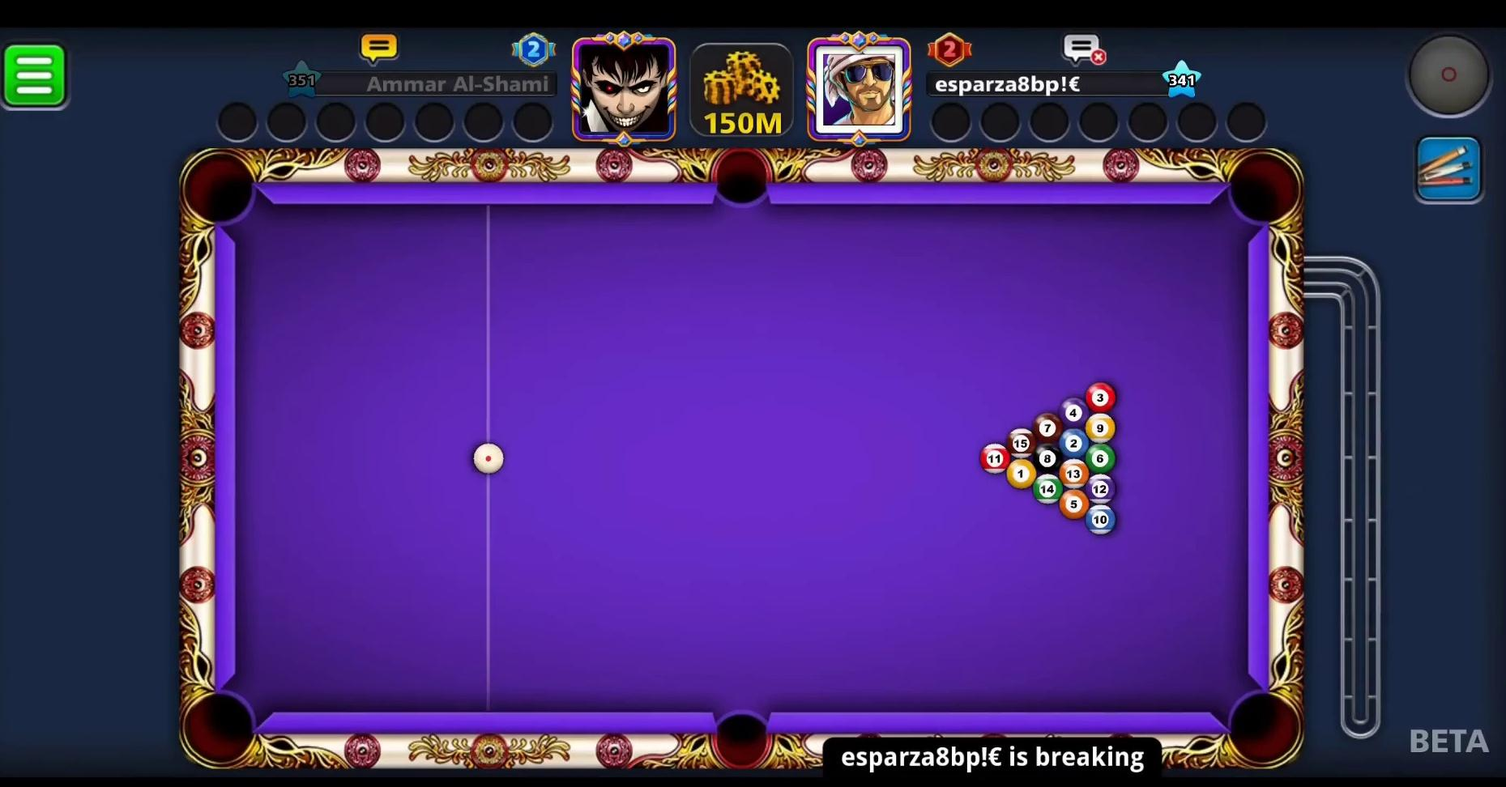Ball: (1053, 454, 1091, 491), (1082, 377, 1118, 414), (1032, 471, 1064, 507), (1084, 412, 1118, 445), (1031, 411, 1064, 445), (1084, 503, 1116, 537), (1084, 471, 1116, 504), (1057, 485, 1087, 520), (1005, 458, 1036, 490), (1056, 428, 1089, 458), (979, 442, 1009, 475), (1058, 394, 1087, 428), (1086, 442, 1116, 473), (1005, 426, 1035, 457), (1032, 443, 1060, 473)
Hole: (1215, 677, 1308, 776), (1216, 143, 1308, 234), (173, 144, 267, 232), (179, 687, 262, 772), (702, 696, 783, 777), (701, 141, 781, 219)
Play_Area: (235, 205, 1247, 714)
Spin: (1403, 29, 1502, 126)
White: (469, 441, 508, 478)
